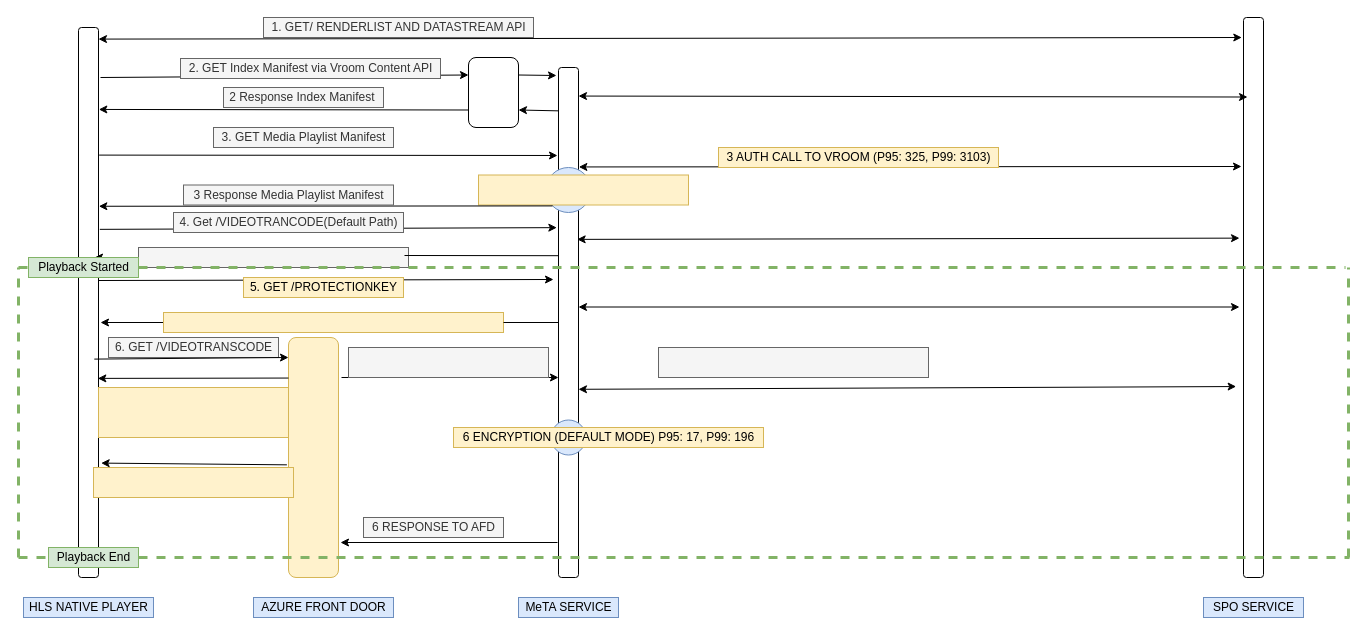
The diagram is 1369 pixels wide and 635 high, and some of its shapes have lost their labels. The shapes that lost their labels are listed below. From the top down, each one's box as (x1, y1, x2, y2) in pixels, then its label:
(468, 56, 518, 128): Vroom
(478, 174, 688, 205): 3 URL SIGNING (DEFAULT MODE) P95: 28, P99: 36
(138, 246, 408, 268): 4. Response /VIDEOTRANCODE (Default Path)
(162, 312, 504, 332): 5 Respone /VIDEOPROTECTIONKEY P95: 1500, P99: 4500
(348, 346, 548, 378): 6 B MISS CASE: FETCH CONTENT FROM ORIGIN
(658, 346, 928, 378): 6 FETCH ALT-STREAM (WITH CRYPTO-KEY) FROM SPO P95: 692, P99: 1441
(98, 386, 288, 438): 6 A HIT CASE CONTENT SERVED FROM CDN P95: 1000, P99: 2500
(288, 336, 338, 578): CDN
(92, 466, 294, 498): 6 Response /VIDEOTRANSCODE (CDN MISS CASE)
